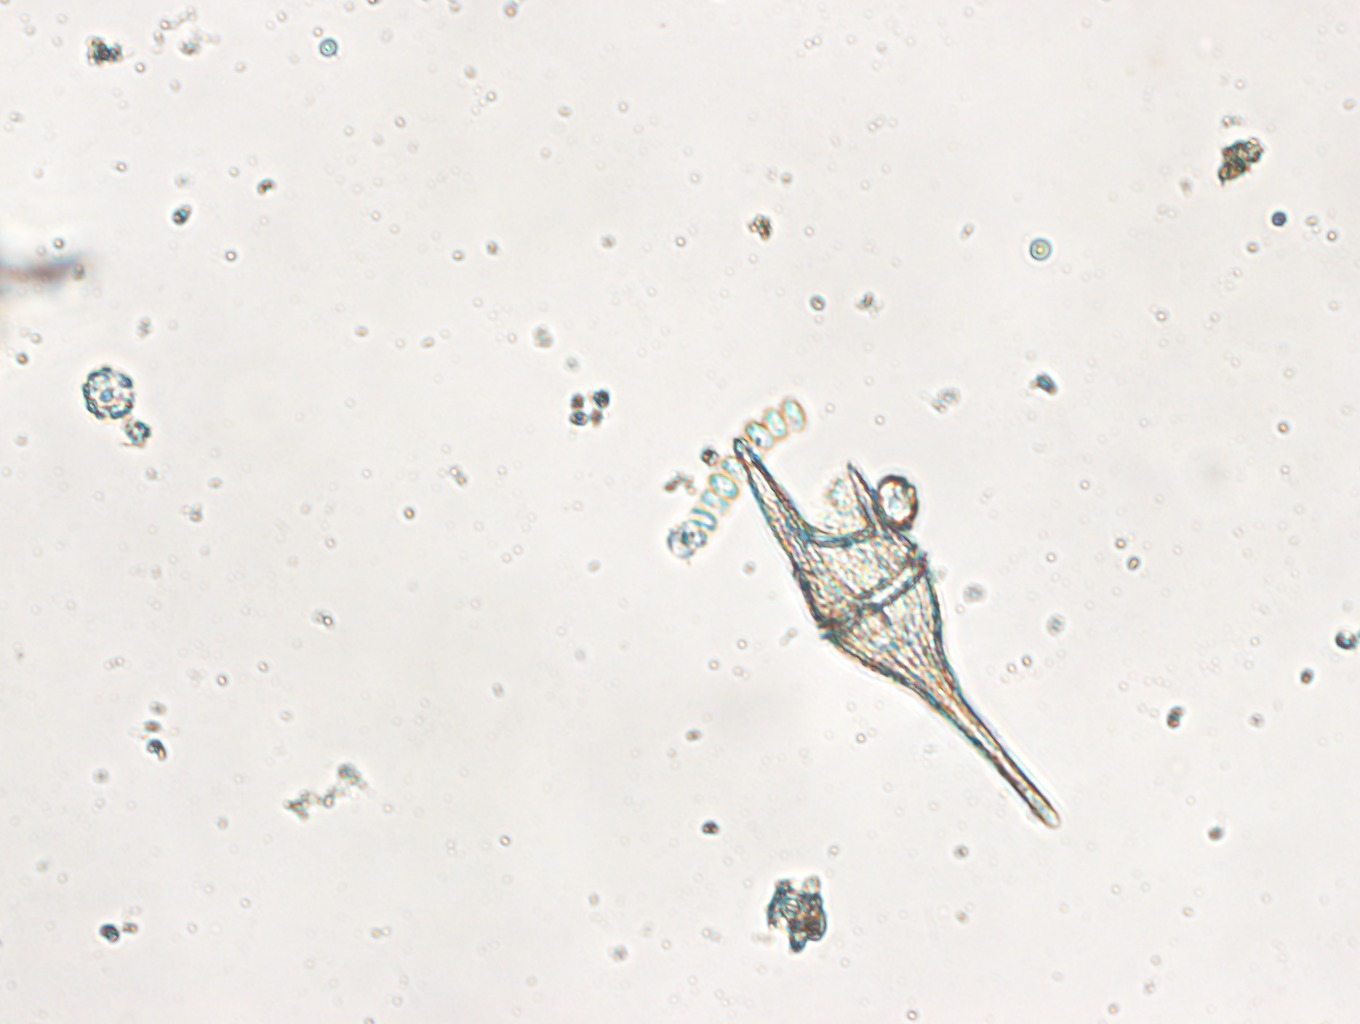ceratium furca: (729, 435, 1063, 851)
